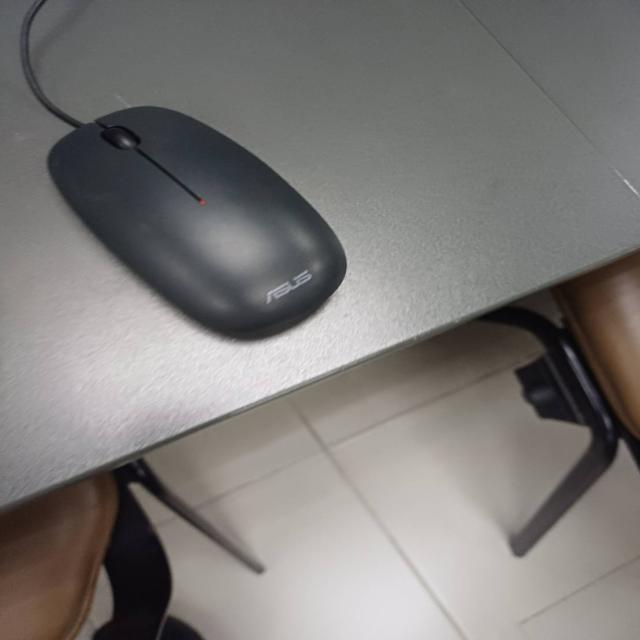mouse: (43, 97, 351, 344)
